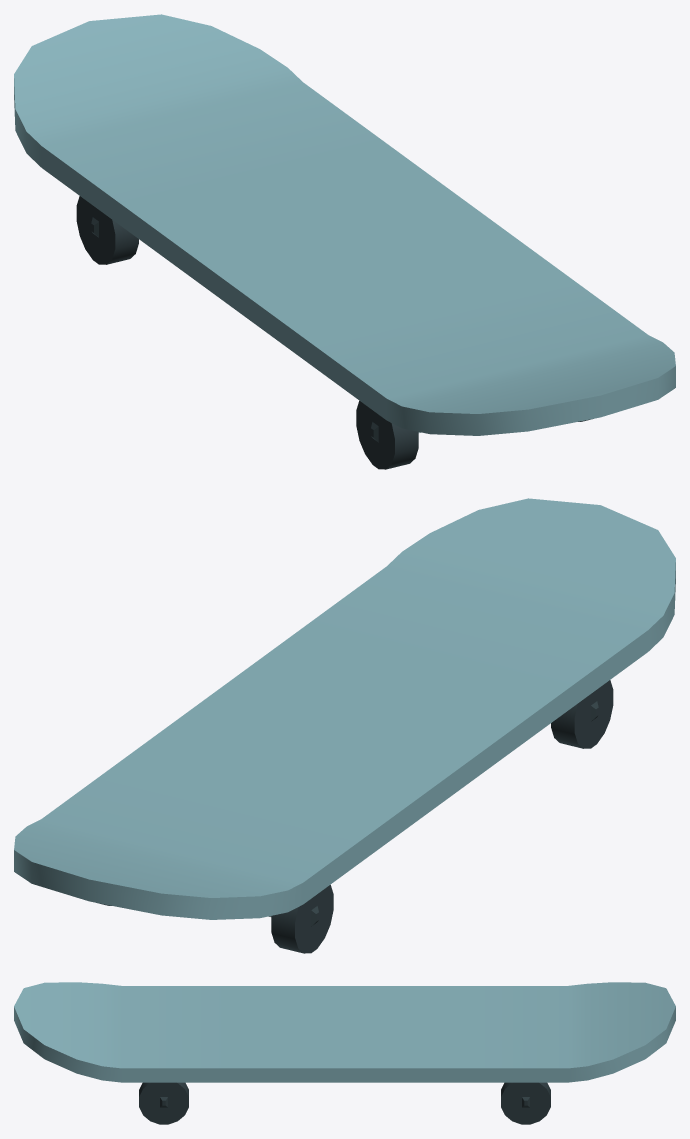
The model's file is Skateboard.FBX.
The picture shows the model from 3 angles, top to bottom: view 1: azimuth 30°, elevation 25°; view 2: azimuth 150°, elevation 25°; view 3: azimuth 270°, elevation 25°; orthographic projection. The views are drawn at different scales.
Parts seen in each view (by area): view 1: Cylinder002; view 2: Cylinder002; view 3: Cylinder002.
Part boxes in pixels (x1,y1,x2,y2): Cylinder002: (14,14,675,469); Cylinder002: (14,498,675,953); Cylinder002: (14,982,675,1124).
Size of the model in its own units: 297 by 141 by 1006.
